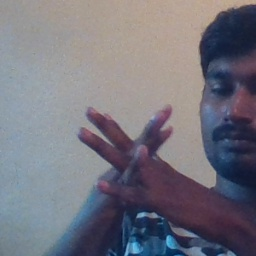W: (68, 94, 193, 225)
